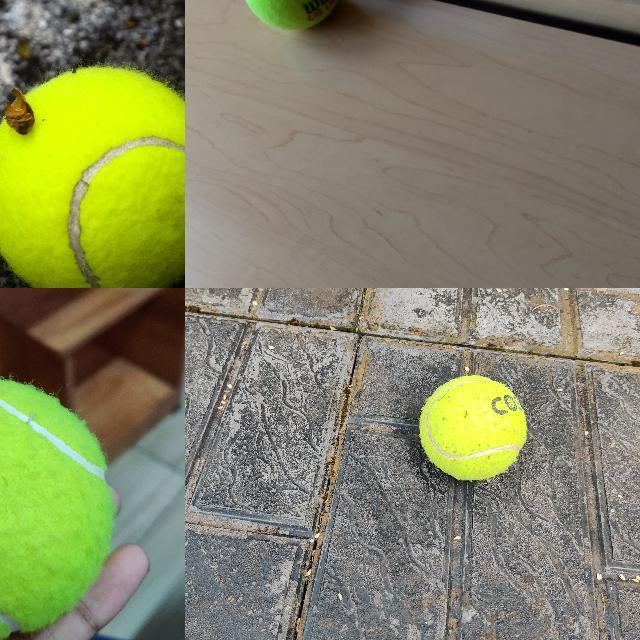tennis-ball: (0, 66, 184, 287), (0, 379, 114, 639), (418, 373, 526, 481), (241, 0, 344, 31)
